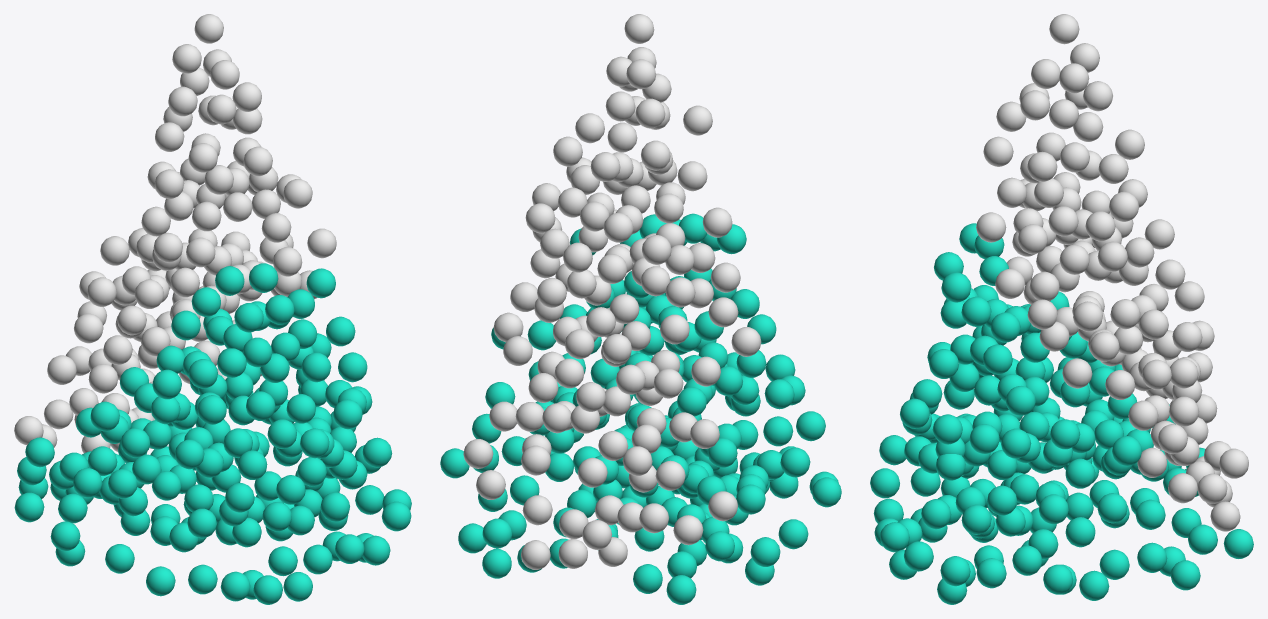
File: Christmas_Tree_Editble_OK.obj
The picture shows the model from 3 angles, left to right: view 1: azimuth 30°, elevation 25°; view 2: azimuth 150°, elevation 25°; view 3: azimuth 270°, elevation 25°; orthographic projection.
Visible parts, largest first — view 1: Sphere_23_1, Sphere_40_1, Sphere_28, Sphere.1_34, Sphere_62, Sphere.1_9_1, Sphere_8_2, Sphere.1_3, Sphere.1_15_1, Sphere.1_16_1, Sphere_18, Sphere.1_27 (+100 smaller); view 2: Sphere.1_28, Sphere.1_22_1, Sphere.1_0_3, Sphere.1_27, Sphere.1_30, Sphere_56, Sphere_50_1, Sphere.1_11, Sphere.1_8_3, Sphere.1_23_2, Sphere_38_1, Sphere_57_1 (+104 smaller); view 3: Sphere.1_6_1, Sphere.1_20_1, Sphere_49, Sphere_67, Sphere.1_4, Sphere.1_0_4, Sphere.1_2_3, Sphere_18, Sphere.1_3_3, Sphere.1_19_2, Sphere.1_1, Sphere.1_1_1 (+100 smaller).
Part boxes in pixels (x1,y1,x2,y2): Sphere_23_1: [381, 501, 411, 531]; Sphere_40_1: [14, 492, 44, 522]; Sphere_28: [301, 352, 331, 382]; Sphere.1_34: [117, 305, 146, 335]; Sphere_62: [188, 564, 217, 594]; Sphere.1_9_1: [192, 201, 221, 231]; Sphere_8_2: [220, 571, 250, 601]; Sphere.1_3: [207, 94, 236, 124]; Sphere.1_15_1: [170, 267, 199, 297]; Sphere.1_16_1: [186, 237, 215, 267]; Sphere_18: [306, 268, 335, 298]; Sphere.1_27: [100, 236, 129, 265]; Sphere.1_28: [708, 297, 738, 327]; Sphere.1_22_1: [653, 368, 683, 398]; Sphere.1_0_3: [607, 122, 637, 152]; Sphere.1_27: [665, 277, 695, 307]; Sphere.1_30: [554, 358, 584, 388]; Sphere_56: [763, 416, 793, 446]; Sphere_50_1: [482, 518, 511, 548]; Sphere.1_11: [702, 207, 732, 237]; Sphere.1_8_3: [522, 495, 552, 525]; Sphere.1_23_2: [708, 491, 737, 521]; Sphere_38_1: [796, 411, 825, 441]; Sphere_57_1: [778, 519, 808, 549]; Sphere.1_6_1: [1085, 211, 1115, 241]; Sphere.1_20_1: [1128, 400, 1158, 430]; Sphere_49: [932, 414, 962, 444]; Sphere_67: [1012, 545, 1042, 575]; Sphere.1_4: [1049, 99, 1078, 129]; Sphere.1_0_4: [976, 212, 1006, 242]; Sphere.1_2_3: [1048, 206, 1078, 236]; Sphere_18: [990, 312, 1020, 342]; Sphere.1_3_3: [1062, 358, 1092, 388]; Sphere.1_19_2: [1197, 473, 1227, 503]; Sphere.1_1: [1059, 63, 1089, 93]; Sphere.1_1_1: [1020, 90, 1050, 120].
Size of the model in its own units: 182 by 275 by 178.
